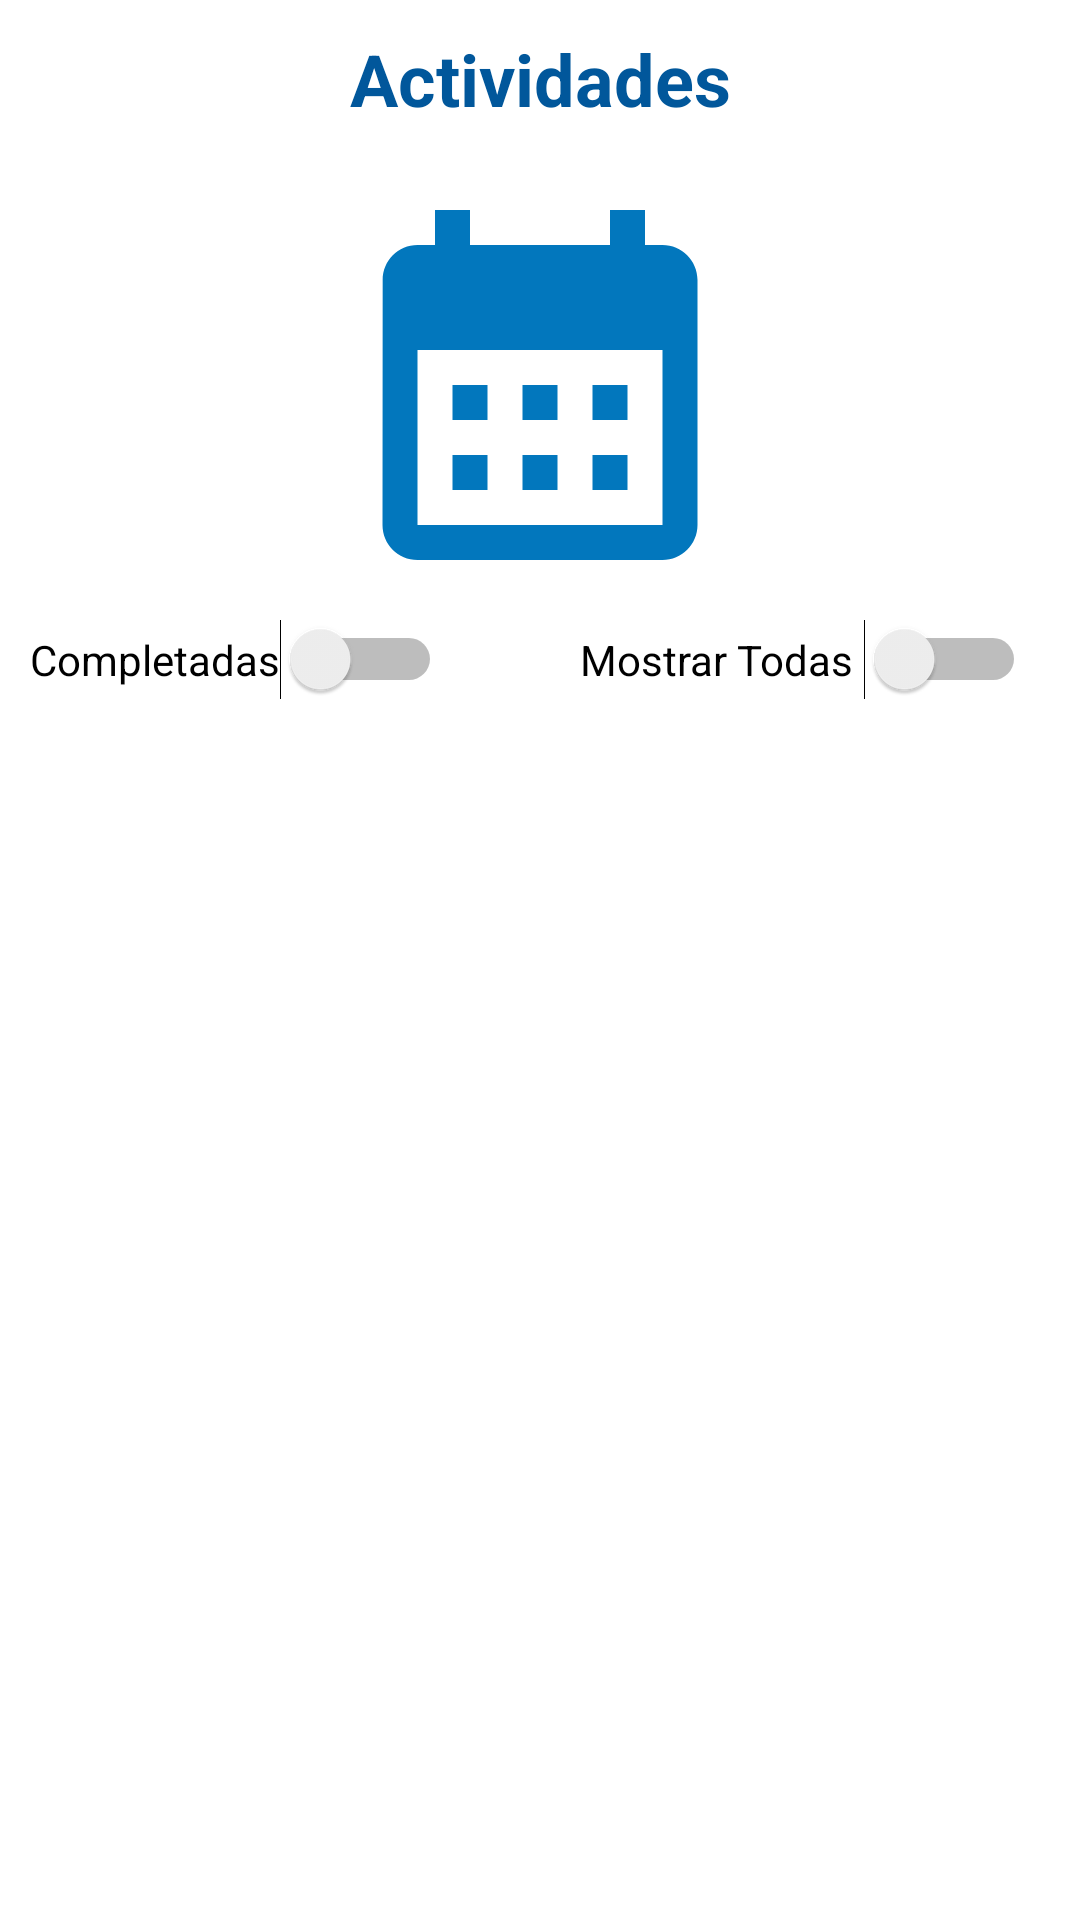

Locate icon controls on the screen. Image size 1080px x 1920px, boxes as (x1, y1, x2, y2).
calendar month: (382, 210, 698, 560)
